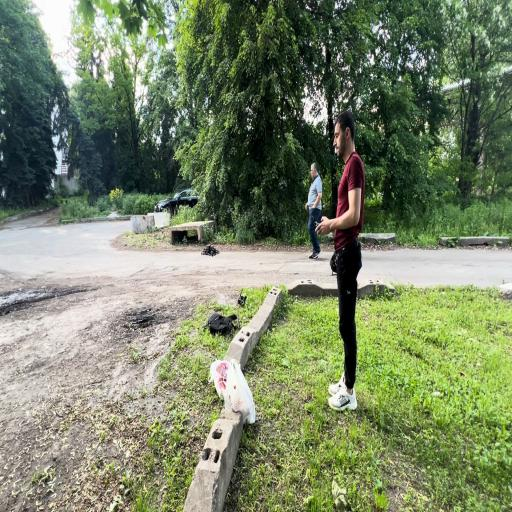drone: (201, 244, 220, 257)
